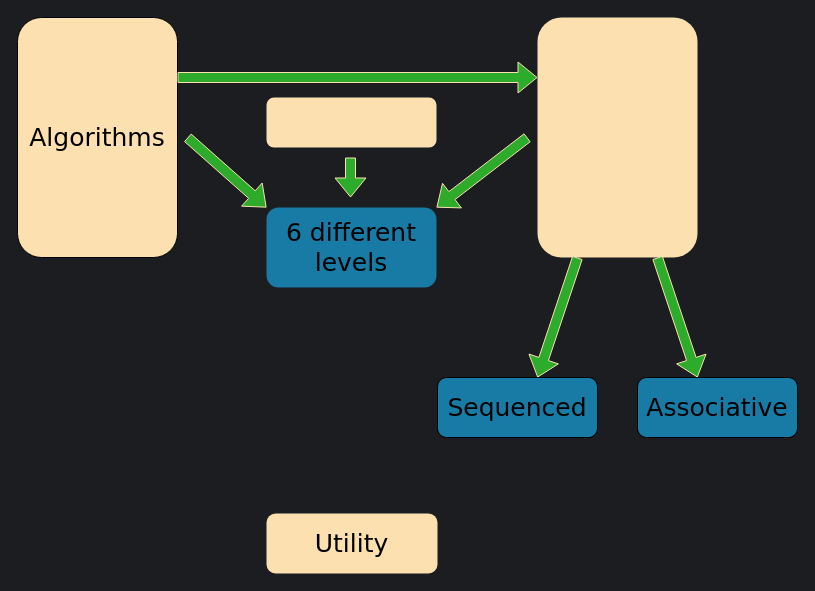
Some shapes in this 815 by 591 pixel diagram are drawn without their labels. The shapes that lost their labels are listed below. From the top down, each one's box as (x1, y1, x2, y2) in pixels, then its label:
(266, 97, 436, 147): Iterators
(537, 17, 697, 257): Container
